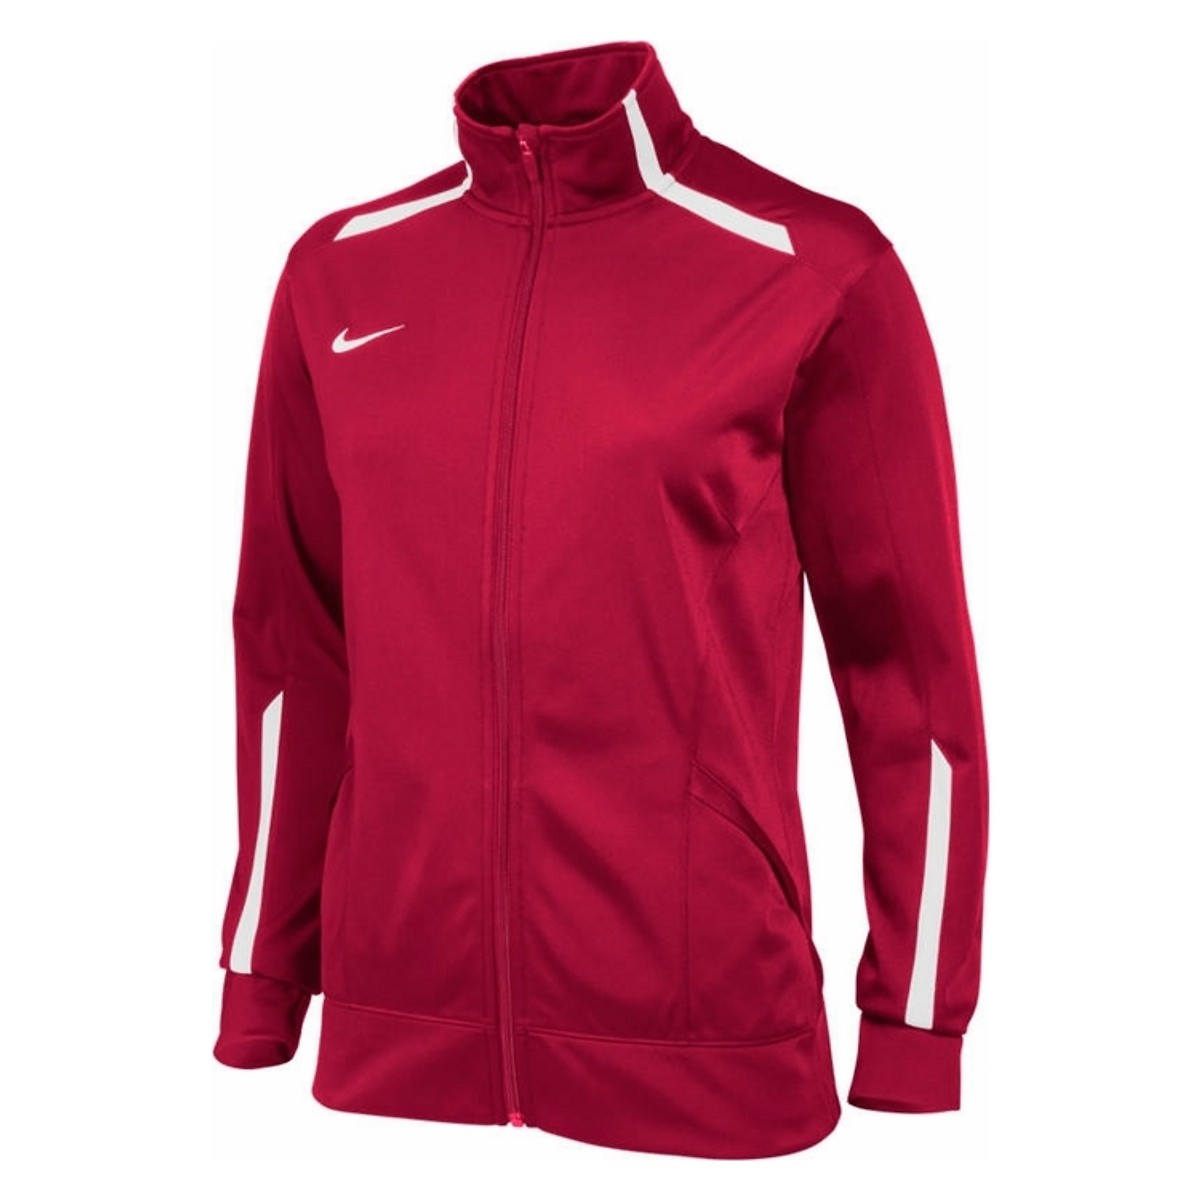Nike: (279, 265, 551, 487)
